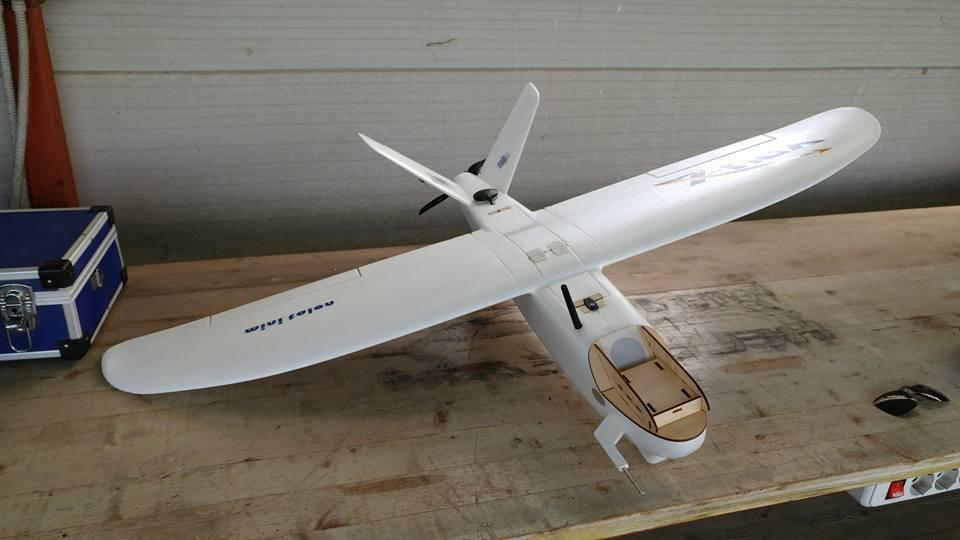Airplane: (100, 41, 892, 482)
